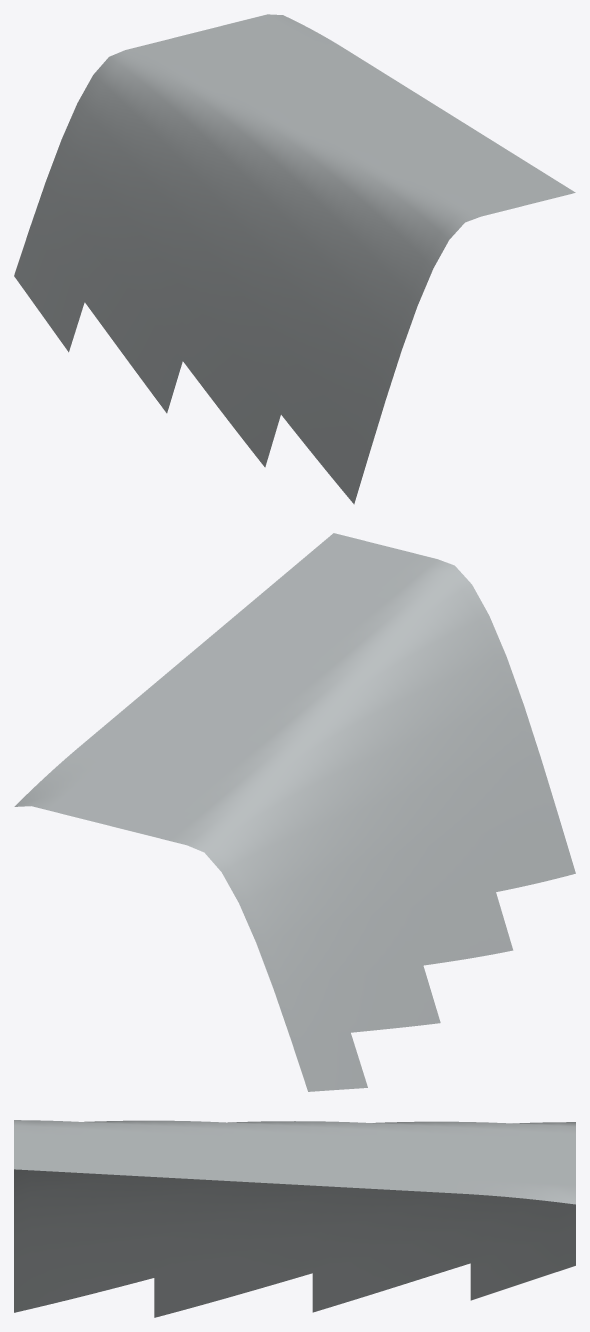
File: alpine-11-4.glb
3 renders of one model, top to bottom at view 1: azimuth 30°, elevation 25°; view 2: azimuth 150°, elevation 25°; view 3: azimuth 270°, elevation 25°, orthographic. The views are drawn at different scales.
Parts seen in each view (by area): view 1: alpine-11-4; view 2: alpine-11-4; view 3: alpine-11-4.
Part boxes in pixels (x1=…): alpine-11-4: x1=14, y1=14, x2=575, y2=504; alpine-11-4: x1=14, y1=533, x2=575, y2=1091; alpine-11-4: x1=14, y1=1120, x2=575, y2=1317.
Size of the model in its own units: 136 by 132 by 256.
1 material, 1 textured.
